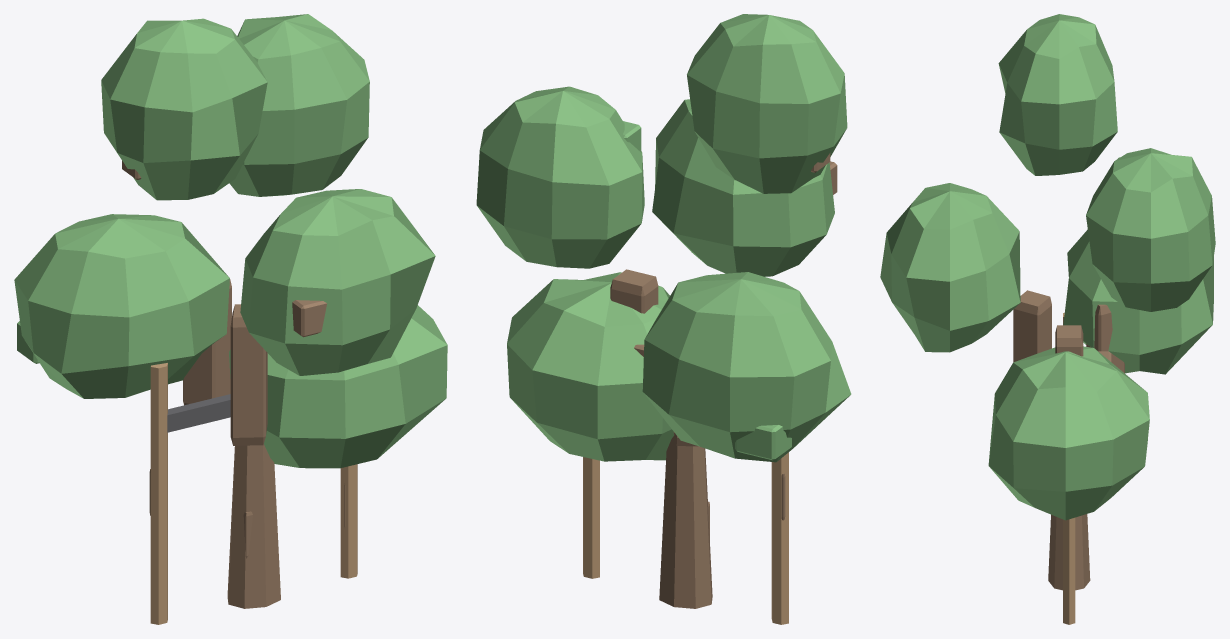
Rendered from b08_staked_young_street_tree.glb.
3 views of the same model, side by side, from view 1: azimuth 30°, elevation 25°; view 2: azimuth 150°, elevation 25°; view 3: azimuth 270°, elevation 25° (orthographic). The views are drawn at different scales.
Visible parts, largest first — view 1: b08_staked_young_street_tree; view 2: b08_staked_young_street_tree; view 3: b08_staked_young_street_tree.
Boxes of the visible parts, left/top/right/bottom form: b08_staked_young_street_tree: left=14, top=14, right=447, bottom=624; b08_staked_young_street_tree: left=476, top=14, right=851, bottom=624; b08_staked_young_street_tree: left=880, top=14, right=1215, bottom=624.
Bounding box in the file's own units: 1.88 × 2.97 × 1.71.
